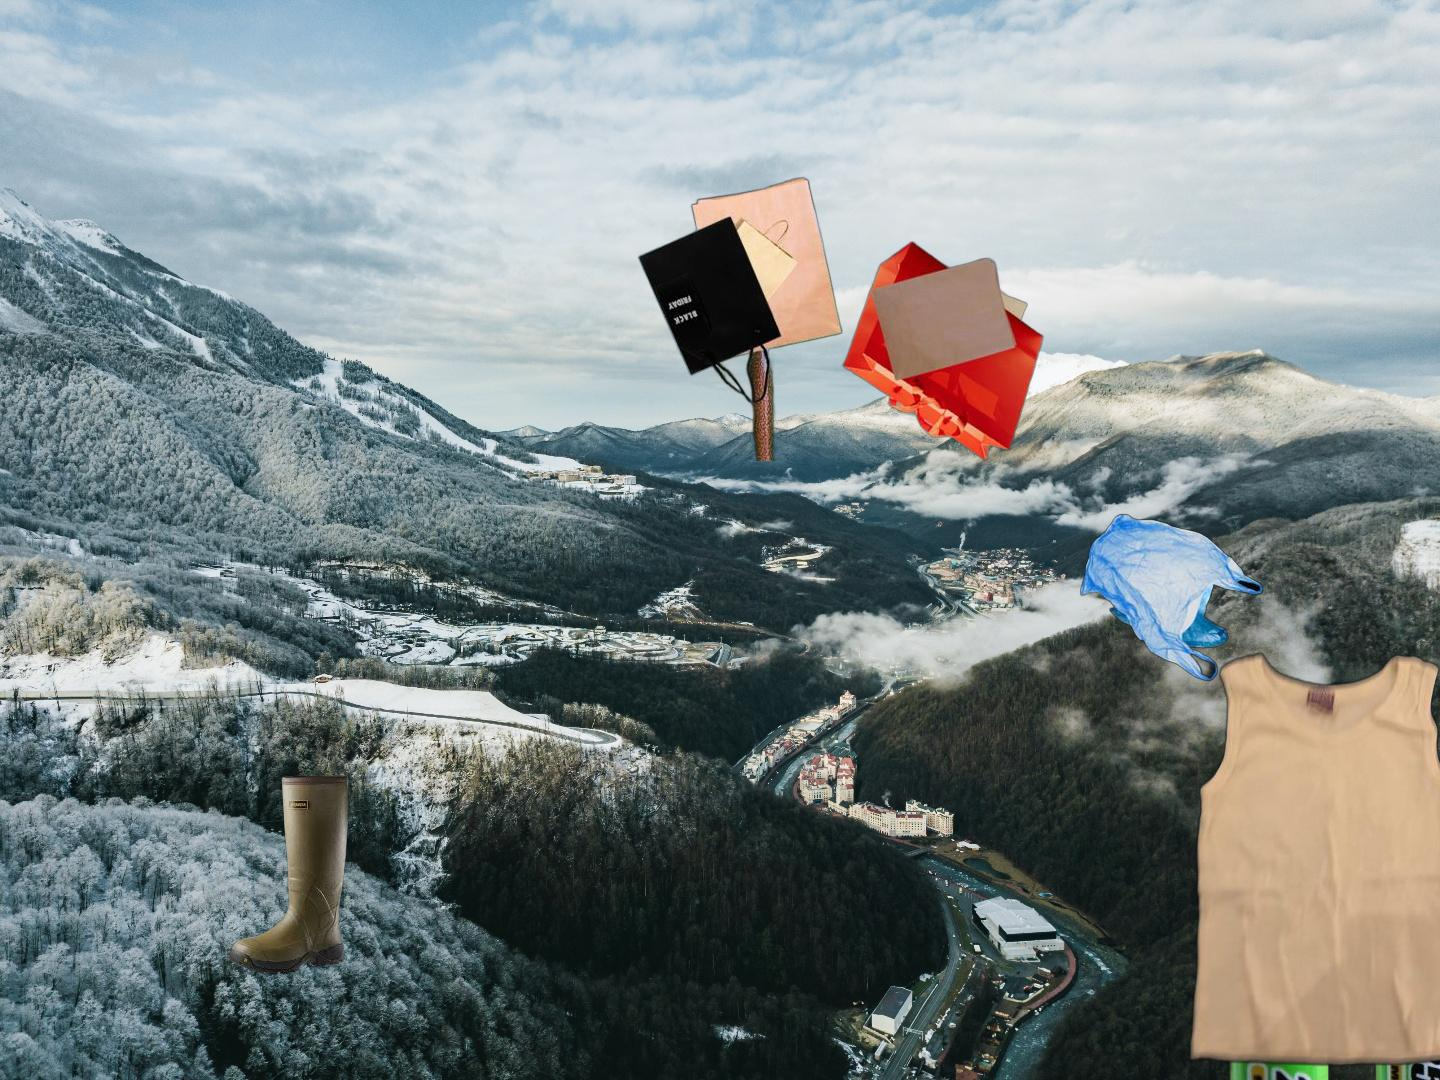battery: (1223, 897, 1440, 1080)
clothes: (1170, 648, 1440, 1073)
paper-bag: (636, 176, 844, 461), (840, 241, 1047, 463)
plastic-bag: (1077, 511, 1264, 682)
shoes: (227, 775, 351, 974)
